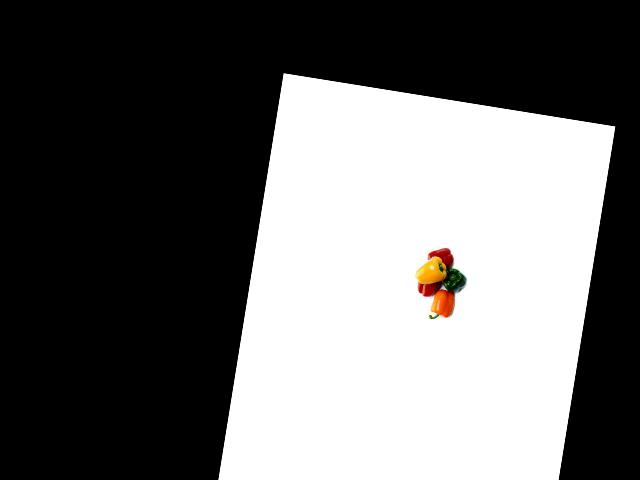bell_pepper: (434, 260, 472, 296)
